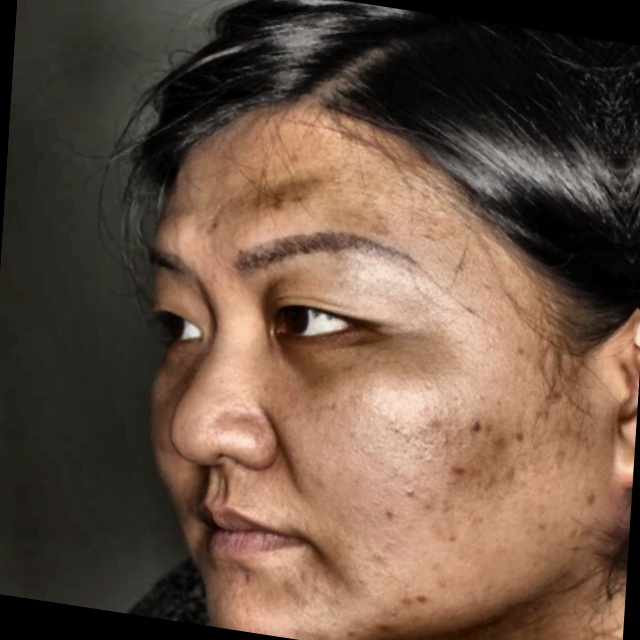comedone: (394, 583, 432, 620)
